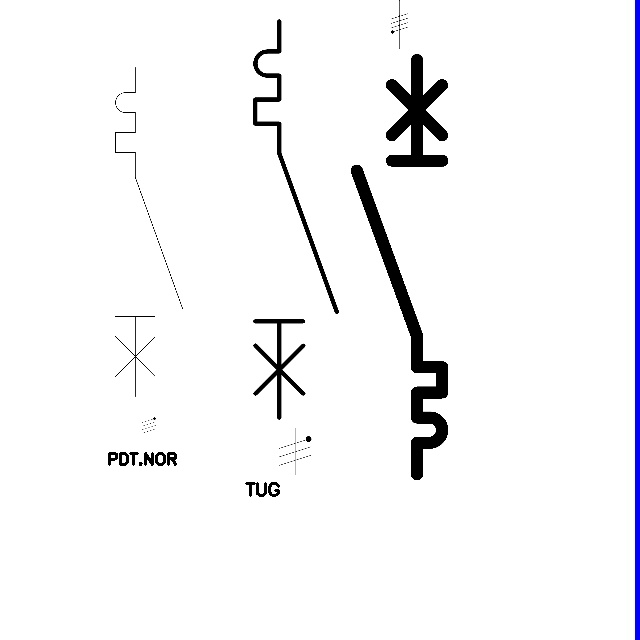interruptor_termomagnetico: (346, 49, 453, 485), (245, 11, 347, 428), (107, 59, 191, 405)
